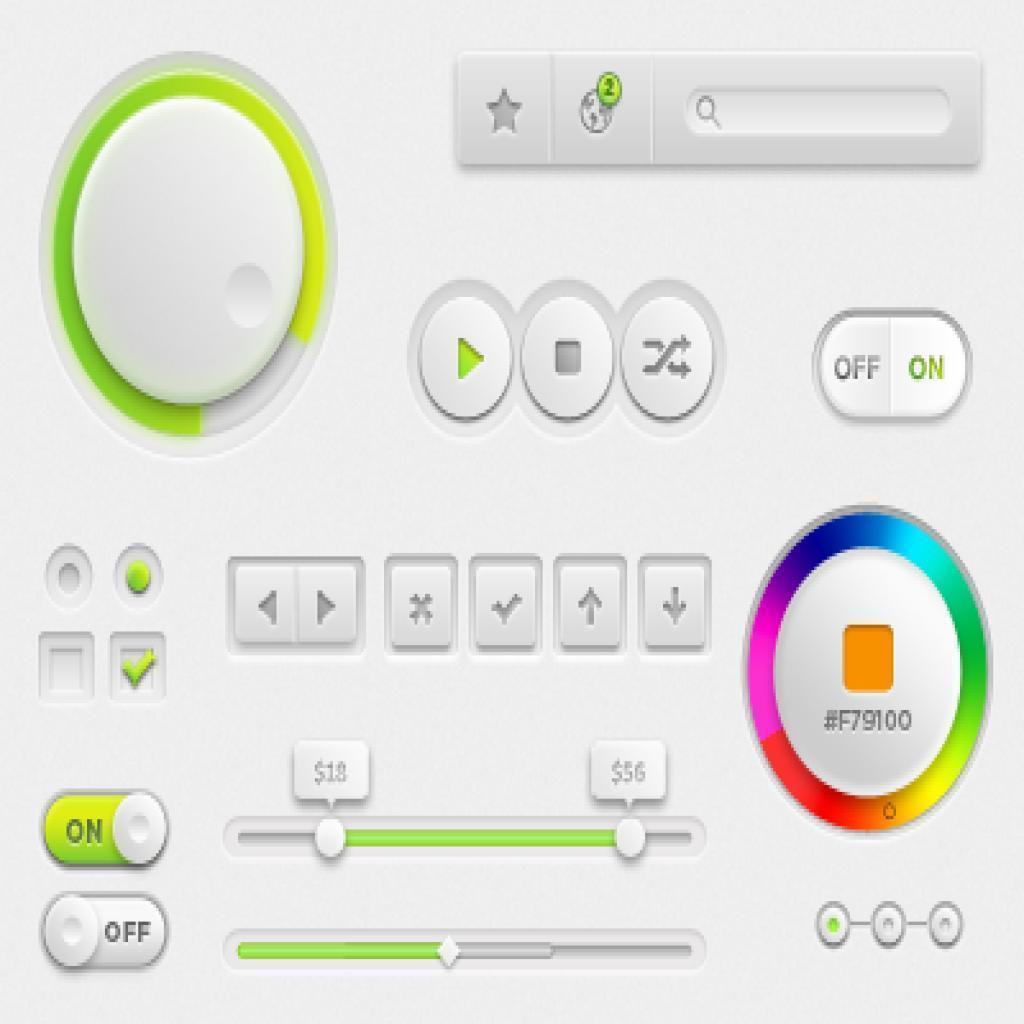checkbox: (465, 558, 543, 649), (111, 630, 176, 707), (36, 634, 98, 709)
icon: (634, 330, 703, 386), (484, 79, 529, 137), (447, 331, 487, 389), (547, 335, 588, 383), (575, 583, 610, 635), (660, 579, 694, 629), (488, 584, 524, 630), (405, 589, 437, 635), (311, 585, 345, 627), (253, 585, 282, 628)
input: (681, 81, 957, 144)
radio: (109, 534, 165, 611), (40, 538, 93, 605)
switch: (807, 290, 985, 429), (39, 882, 170, 978), (36, 786, 173, 876)
